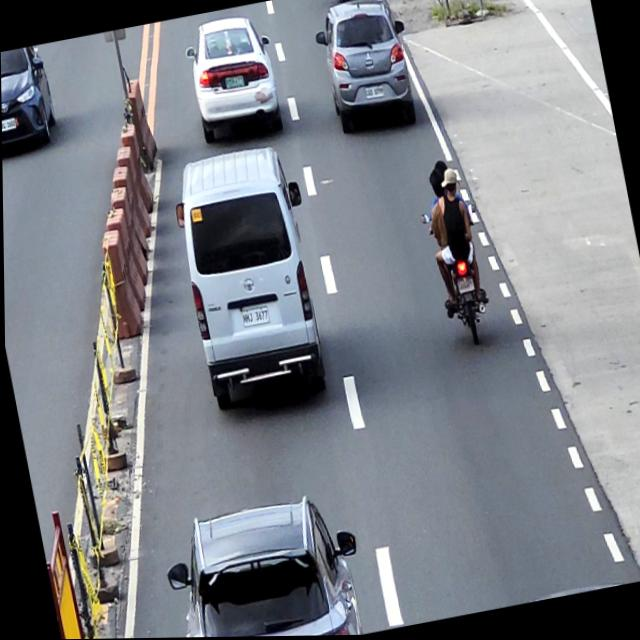Car: (165, 139, 336, 411), (154, 488, 370, 638), (309, 0, 422, 138), (179, 10, 286, 145), (1, 43, 60, 161)
License-Plate: (239, 304, 270, 329), (363, 84, 385, 100), (455, 277, 474, 295), (224, 74, 245, 90), (1, 117, 16, 132)
Motorcycle: (418, 204, 495, 352)
